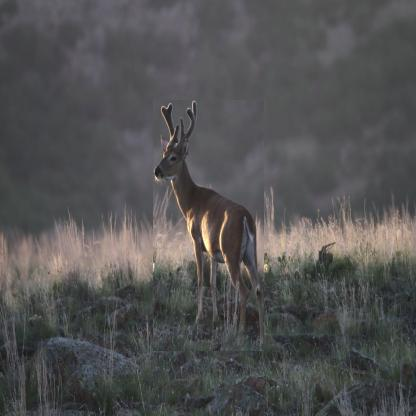Deer: (153, 100, 264, 351)
